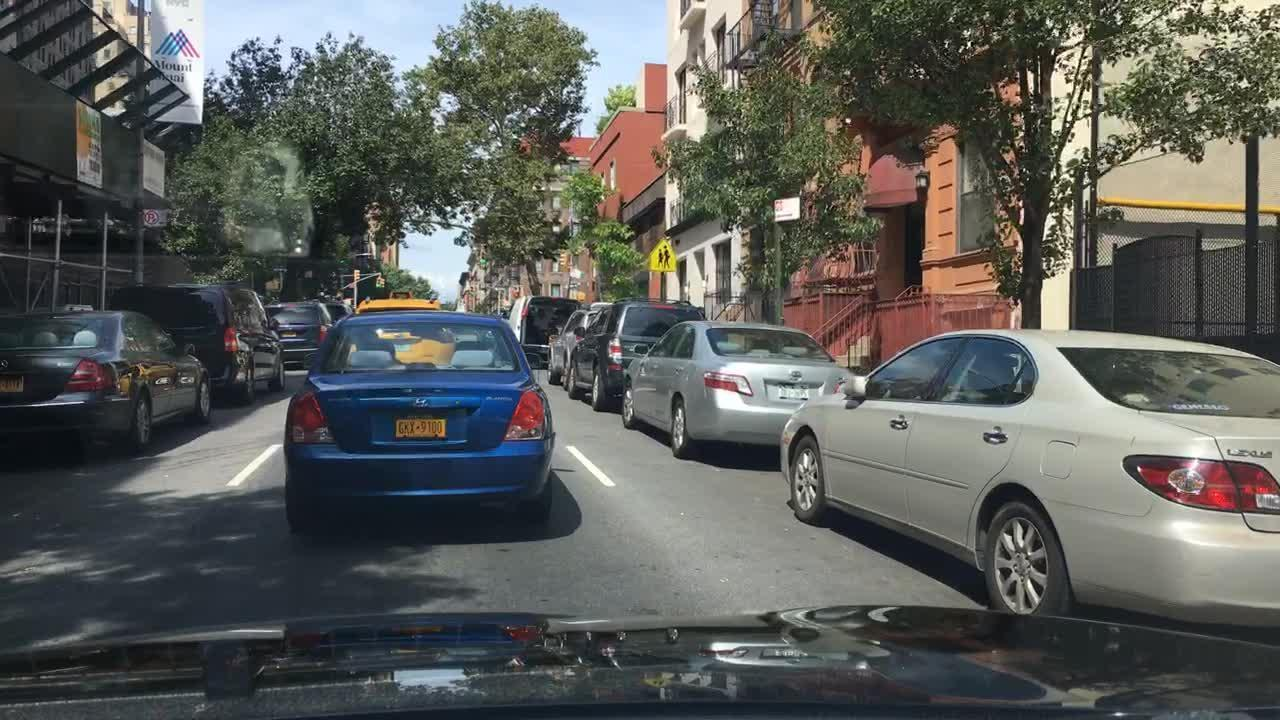Hyundai: (402, 390, 444, 413)
Mercedes: (0, 352, 17, 374)
Toyota: (784, 365, 812, 388)
